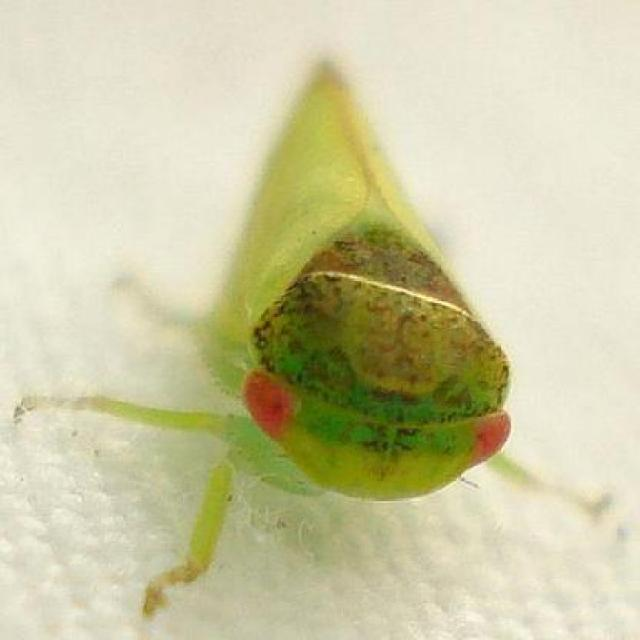green-leafhopper: (194, 63, 535, 517)
